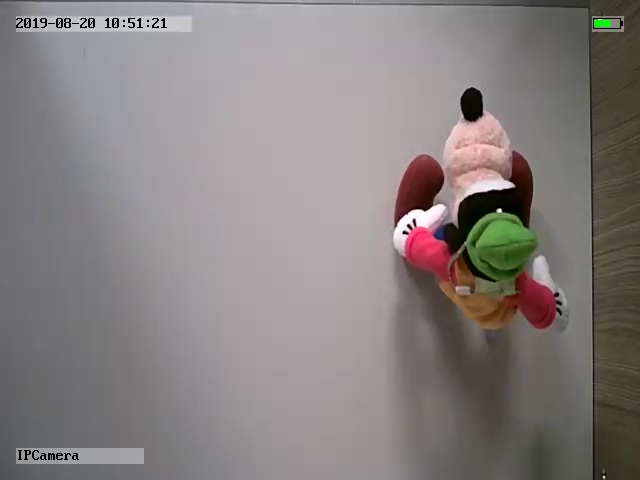goofy: (392, 86, 570, 334)
